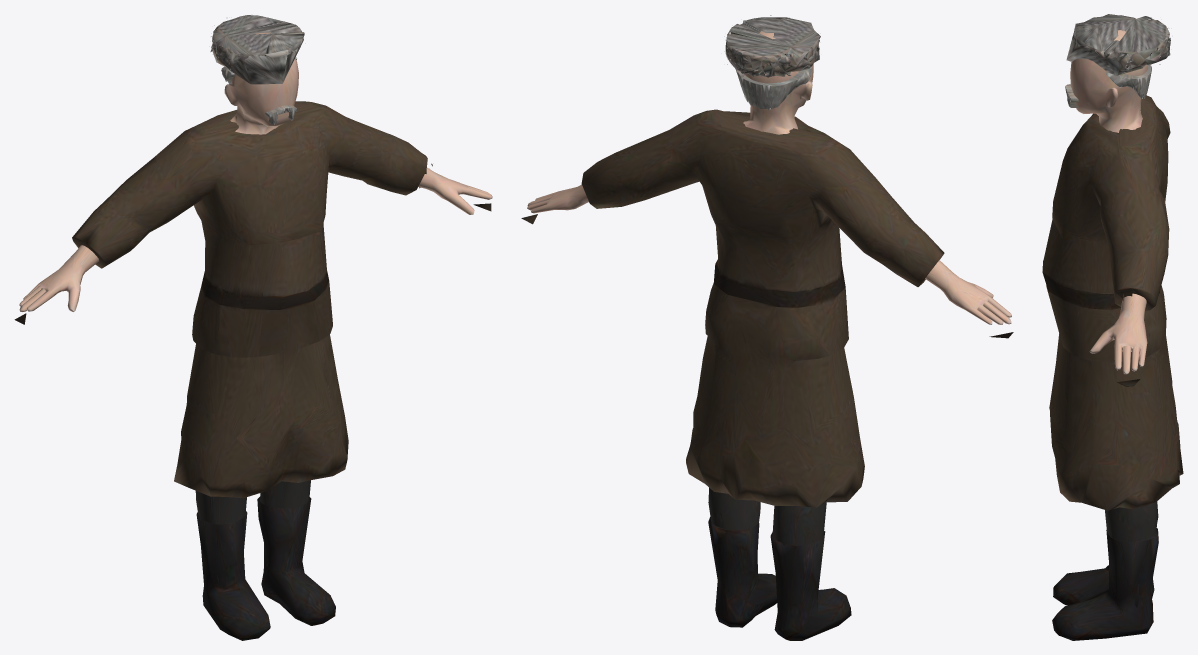
Rendered from npc_x_grandpa_w2.glb.
3 renders of one model, left to right at view 1: azimuth 30°, elevation 25°; view 2: azimuth 150°, elevation 25°; view 3: azimuth 270°, elevation 25°, orthographic. The views are drawn at different scales.
Parts seen in each view (by area): view 1: Human; view 2: Human; view 3: Human.
Part boxes in pixels (x1,y1,x2,y2): Human: (14, 15, 492, 640); Human: (521, 15, 1013, 640); Human: (1042, 14, 1183, 640).
Bounding box in the file's own units: 1.5 × 1.75 × 0.3777.
1 material, 1 textured.
